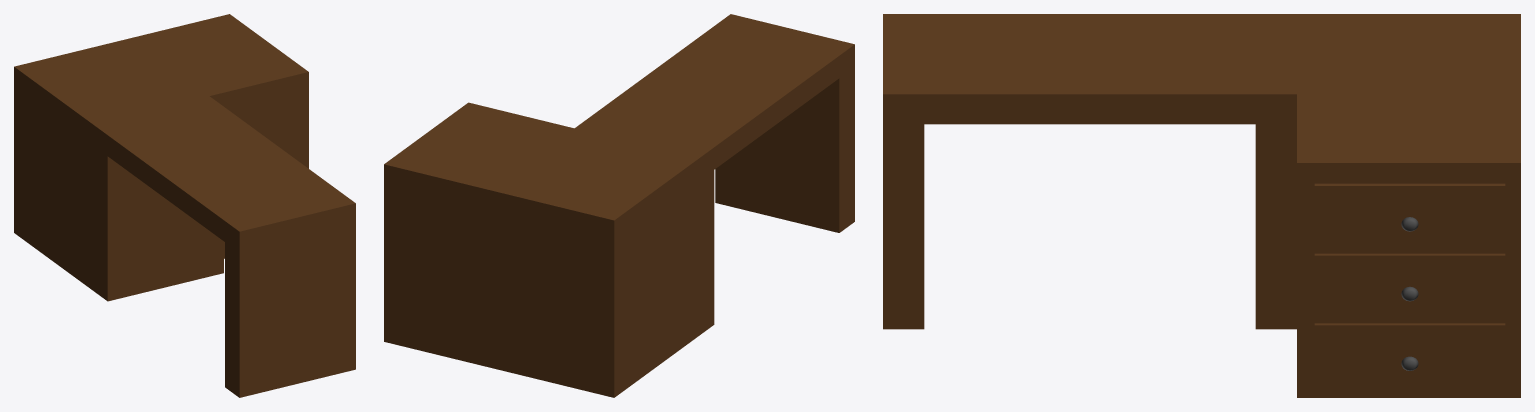
File: desk.fbx
3 renders of one model, left to right at view 1: azimuth 30°, elevation 25°; view 2: azimuth 150°, elevation 25°; view 3: azimuth 270°, elevation 25°, orthographic. The views are drawn at different scales.
Visible parts, largest first — view 1: Desk; view 2: Desk; view 3: Desk.
Part boxes in pixels (x1,y1,x2,y2): Desk: (14,14,355,397); Desk: (384,14,854,397); Desk: (883,14,1520,397).
Bounding box in the file's own units: 3604 × 6245 × 2540.
